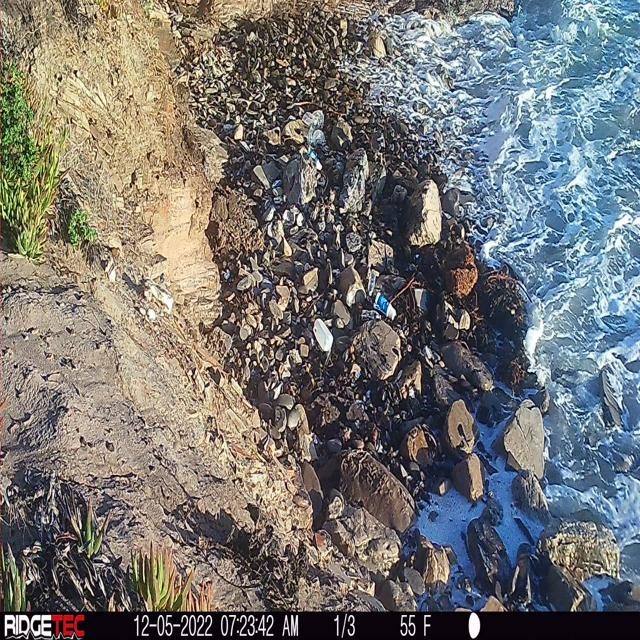bird: (369, 127, 388, 162)
